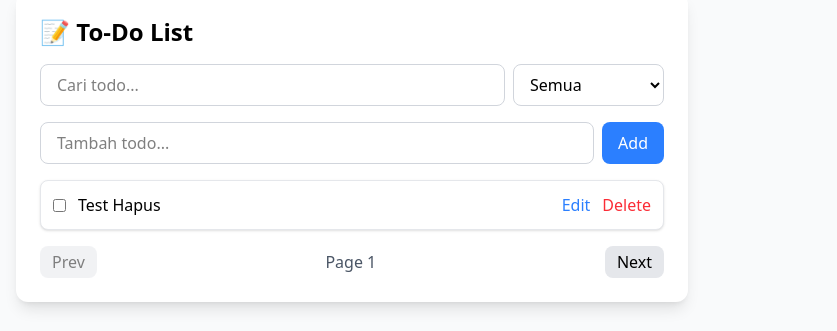
Scenario: Home Component › menghapus todo
Expected: the text "Test Hapus" is shown, [78,193,161,217]
// Klik tombol Delete di item
Click the button "Delete": [627, 205] box [602,193,651,217]
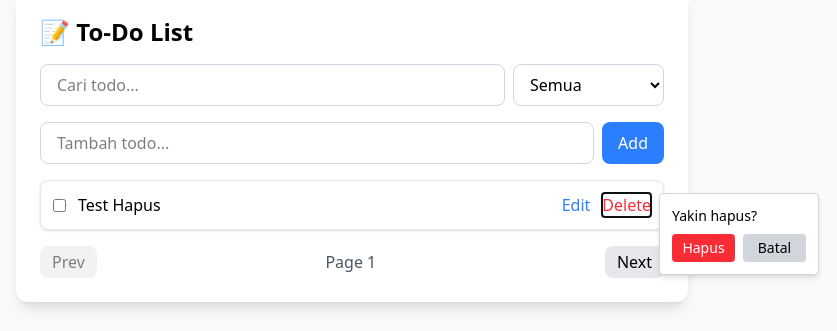
// Klik tombol Hapus di modal konfirmasi
Click the button "Hapus": [704, 248] box [672,234,735,262]
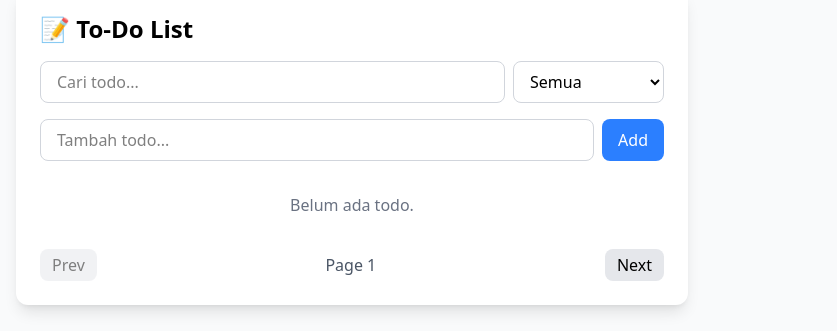
Result: the text "Test Hapus" is gone
